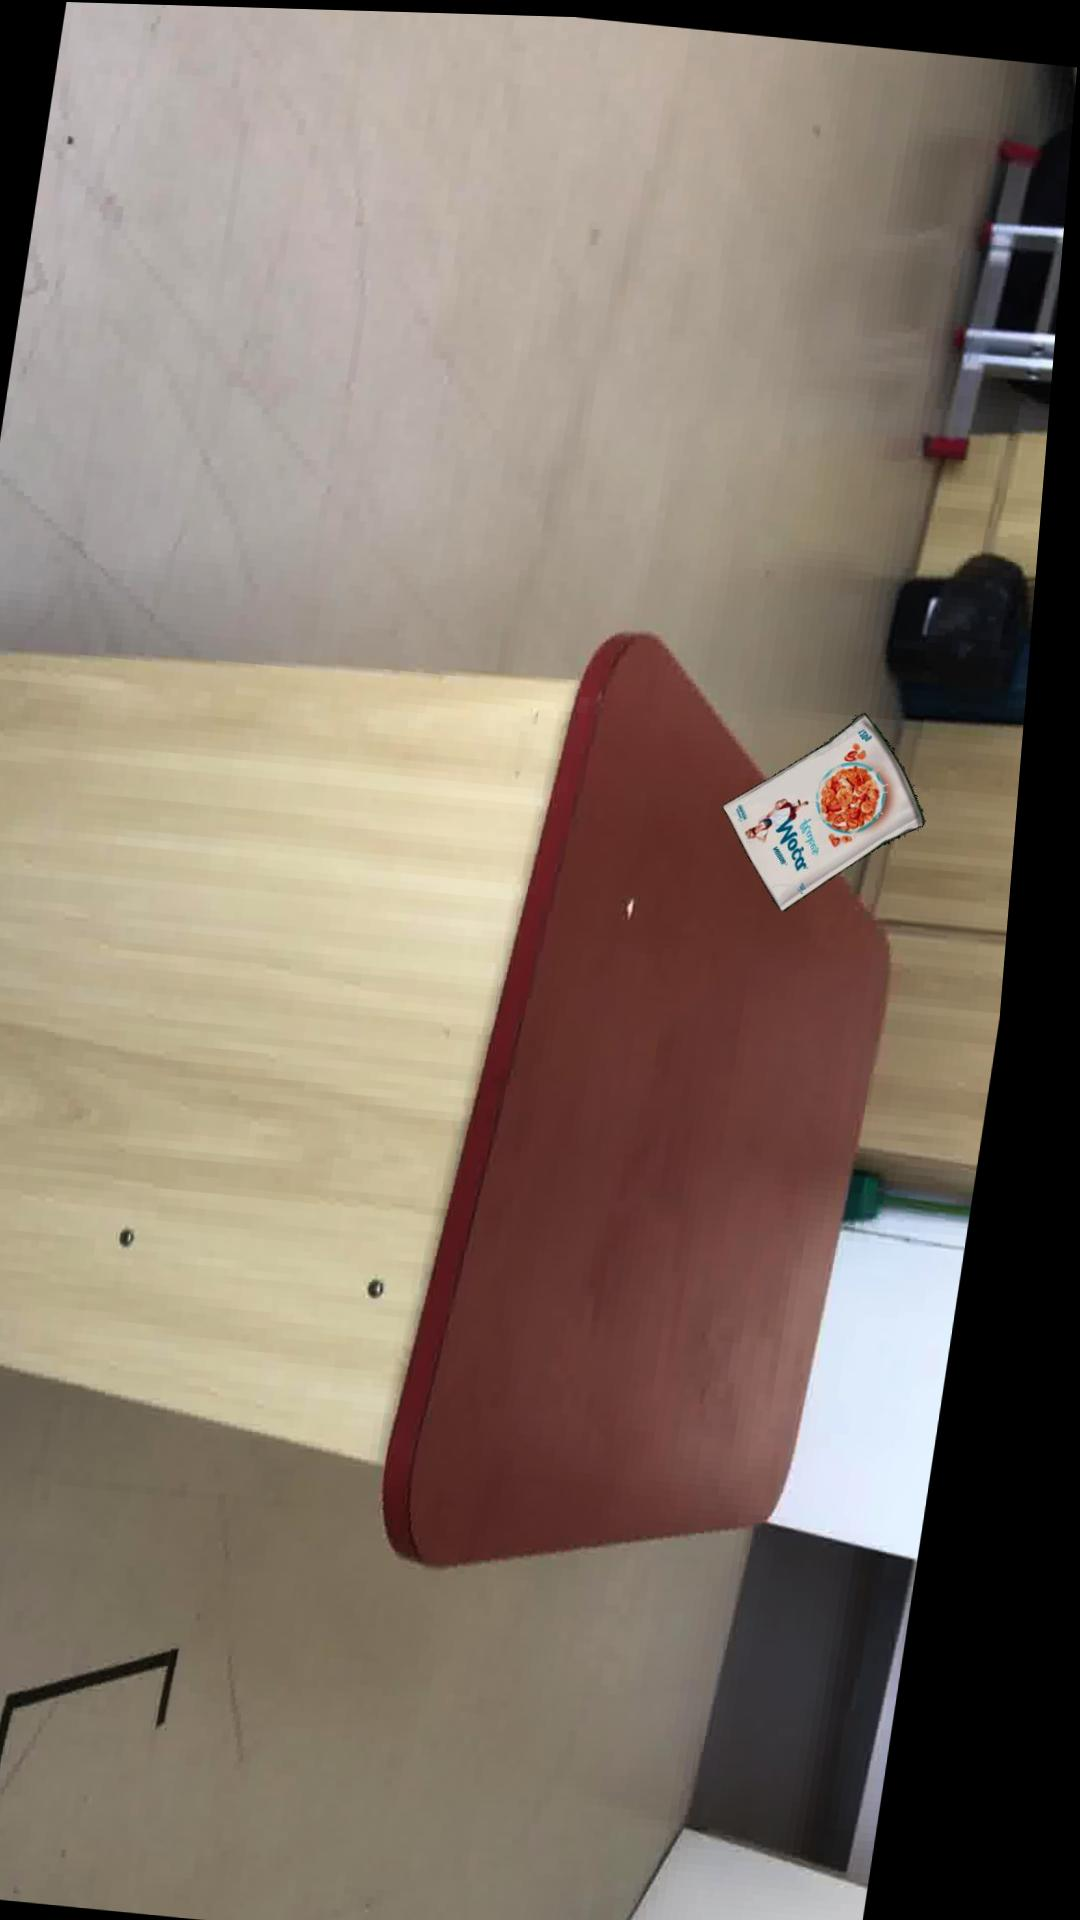corn flakes: (735, 705, 936, 905)
